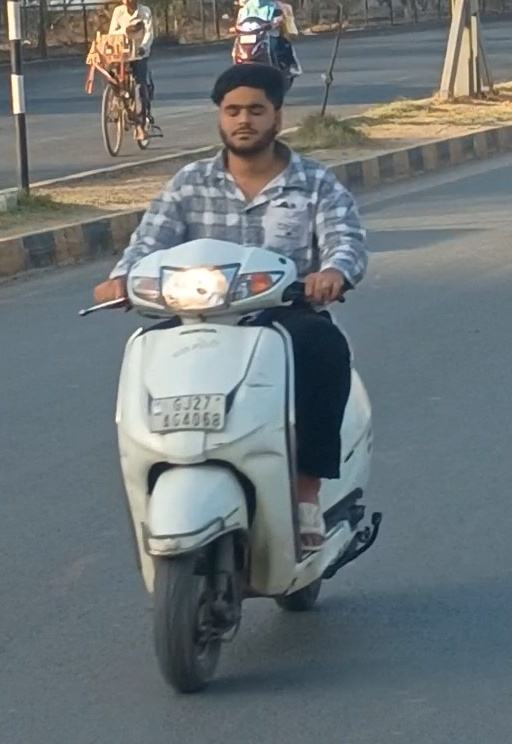BikeWithRider: (71, 58, 392, 702), (77, 0, 170, 163), (215, 0, 309, 101)
NoHelmet: (201, 59, 294, 161)
